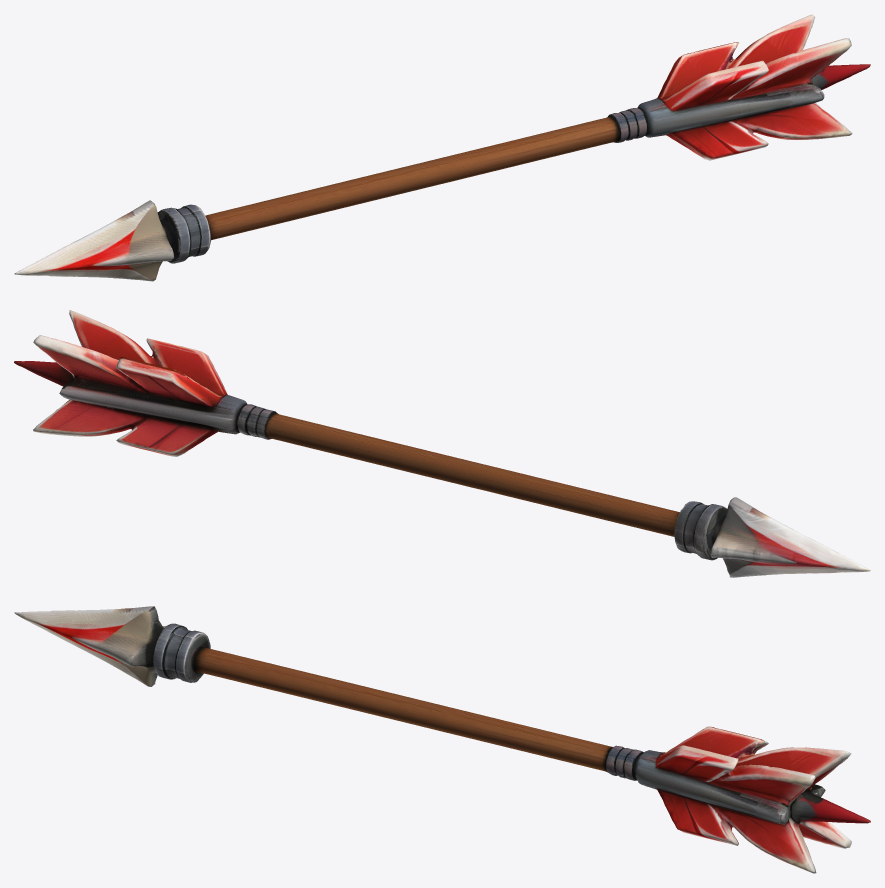
The model's file is Arrow.fbx.
3 views of the same model, one above another, from view 1: azimuth 30°, elevation 25°; view 2: azimuth 150°, elevation 25°; view 3: azimuth 330°, elevation 25° (orthographic).
Visible parts, largest first — view 1: Mesh_0; view 2: Mesh_0; view 3: Mesh_0.
Boxes of the visible parts, <box> form: Mesh_0: <box>14,14,870,281</box>; Mesh_0: <box>14,310,870,577</box>; Mesh_0: <box>14,606,870,873</box>.
Size of the model in its own units: 459 by 50 by 39.97.
1 material, 1 textured.
